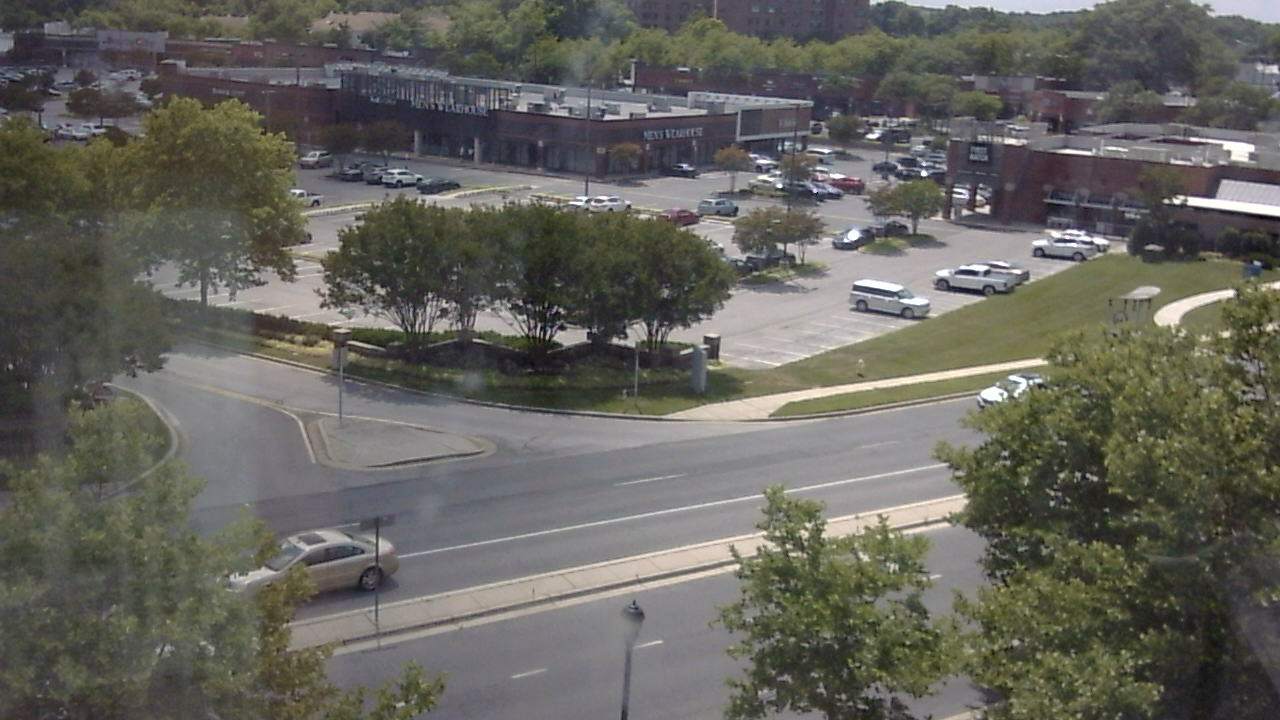Car: (200, 532, 420, 628), (971, 361, 1069, 450)
